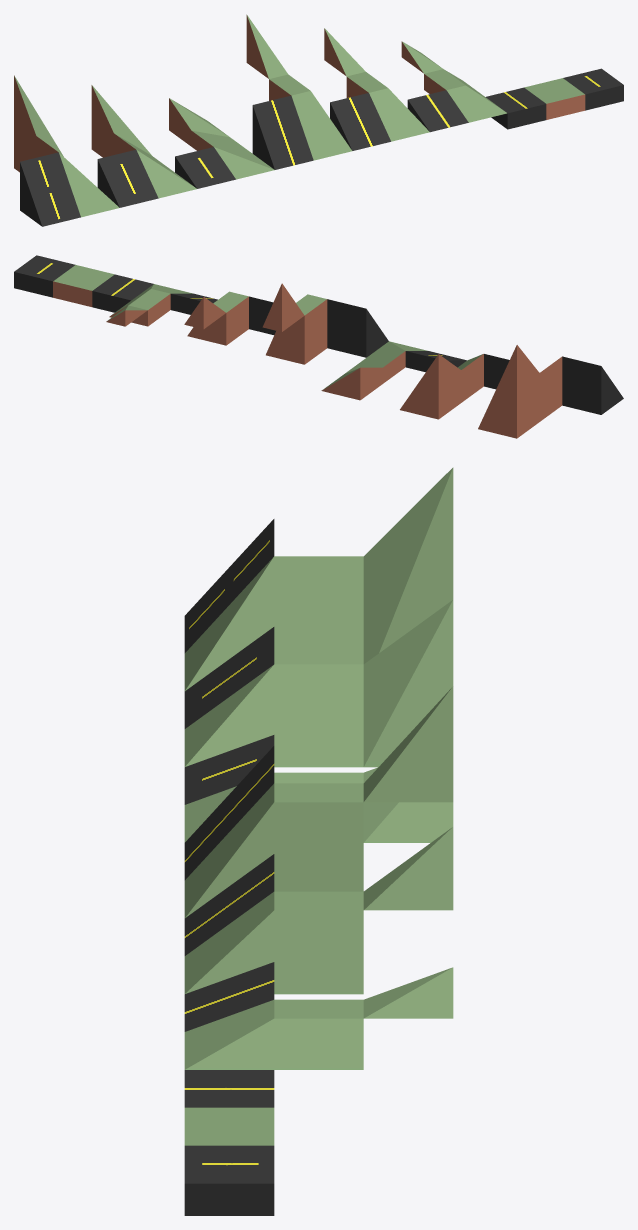
File: Tiles FBX Luan.fbx
3 views of the same model, one above another, from view 1: azimuth 30°, elevation 25°; view 2: azimuth 150°, elevation 25°; view 3: azimuth 270°, elevation 25° (orthographic). The views are drawn at different scales.
Parts seen in each view (by area): view 1: AsfaltoCont.Incli 12x, AsfaltoPontilhado.Incli 12x, AsfaltoPontilhado.Incli 8x, AsfaltoCont-Incli 8x, Ground.Inclinado V1 12X, Ground.Inclinado V3.1 12X, Ground.Inclinado V3.1 8X, AsfaltoPontilhado.Incli 4x, AsfaltoCont, Ground.Inclinado V1 8x, AsfaltoCont-Incli 4x, Ground (+14 smaller); view 2: Ground.Inclinado V3.1 12X, Ground.Inclinado V2 12X, AsfaltoCont.Incli 12x, AsfaltoPontilhado.Incli 12x, Ground.Inclinado V3.1 8X, Ground.Inclinado V2 8X, Ground, AsfaltoPontilhado, AsfaltoCont, Ground.Inclinado V3.1 4X, Ground.Inclinado V2.1 12X, Ground.Inclinado V2 4X (+10 smaller); view 3: Ground.Inclinado V3.1 12X, Ground.Inclinado V2 12X, Ground.Inclinado V2.1 12X, Ground.Inclinado V2 8X, Ground.Inclinado V2.1 8X, Ground.Inclinado V3.1 8X, AsfaltoPontilhado, Ground.Inclinado V2 4X, Ground.Inclinado V3 12X, Ground.Inclinado V1 12X, Ground.Inclinado V1 8x, Ground.Inclinado V1.1 12X (+15 smaller).
Boxes of the visible parts, left/top/right/bottom form: AsfaltoCont.Incli 12x: left=252, top=95, right=313, bottom=169; AsfaltoPontilhado.Incli 12x: left=20, top=152, right=80, bottom=226; AsfaltoPontilhado.Incli 8x: left=97, top=150, right=158, bottom=207; AsfaltoCont-Incli 8x: left=330, top=93, right=390, bottom=150; Ground.Inclinado V1 12X: left=291, top=91, right=352, bottom=160; Ground.Inclinado V3.1 12X: left=14, top=75, right=63, bottom=172; Ground.Inclinado V3.1 8X: left=91, top=85, right=151, bottom=157; AsfaltoPontilhado.Incli 4x: left=175, top=147, right=235, bottom=188; AsfaltoCont: left=486, top=87, right=546, bottom=129; Ground.Inclinado V1 8x: left=369, top=88, right=429, bottom=141; AsfaltoCont-Incli 4x: left=407, top=90, right=468, bottom=132; Ground: left=524, top=78, right=585, bottom=119; Ground.Inclinado V3.1 12X: left=478, top=345, right=539, bottom=438; Ground.Inclinado V2 12X: left=266, top=294, right=327, bottom=364; AsfaltoCont.Incli 12x: left=327, top=299, right=388, bottom=357; AsfaltoPontilhado.Incli 12x: left=562, top=356, right=623, bottom=414; Ground.Inclinado V3.1 8X: left=400, top=354, right=461, bottom=419; Ground.Inclinado V2 8X: left=187, top=291, right=248, bottom=345; Ground: left=53, top=265, right=114, bottom=306; AsfaltoPontilhado: left=14, top=255, right=75, bottom=297; AsfaltoCont: left=92, top=274, right=153, bottom=312; Ground.Inclinado V3.1 4X: left=321, top=367, right=382, bottom=400; Ground.Inclinado V2.1 12X: left=539, top=356, right=562, bottom=421; Ground.Inclinado V2 4X: left=109, top=289, right=170, bottom=326; Ground.Inclinado V3.1 12X: left=363, top=467, right=453, bottom=663; Ground.Inclinado V2 12X: left=274, top=783, right=363, bottom=891; Ground.Inclinado V2.1 12X: left=274, top=556, right=363, bottom=664; Ground.Inclinado V2 8X: left=274, top=891, right=363, bottom=994; Ground.Inclinado V2.1 8X: left=274, top=664, right=363, bottom=767; Ground.Inclinado V3.1 8X: left=363, top=600, right=453, bottom=767; AsfaltoPontilhado: left=184, top=1145, right=274, bottom=1215; Ground.Inclinado V2 4X: left=274, top=999, right=363, bottom=1069; Ground.Inclinado V3 12X: left=363, top=686, right=453, bottom=802; Ground.Inclinado V1 12X: left=184, top=783, right=274, bottom=917; Ground.Inclinado V1 8x: left=184, top=892, right=274, bottom=993; Ground.Inclinado V1.1 12X: left=184, top=556, right=274, bottom=690.
Bounding box in the file's own units: 15000 × 2800 × 3000.
